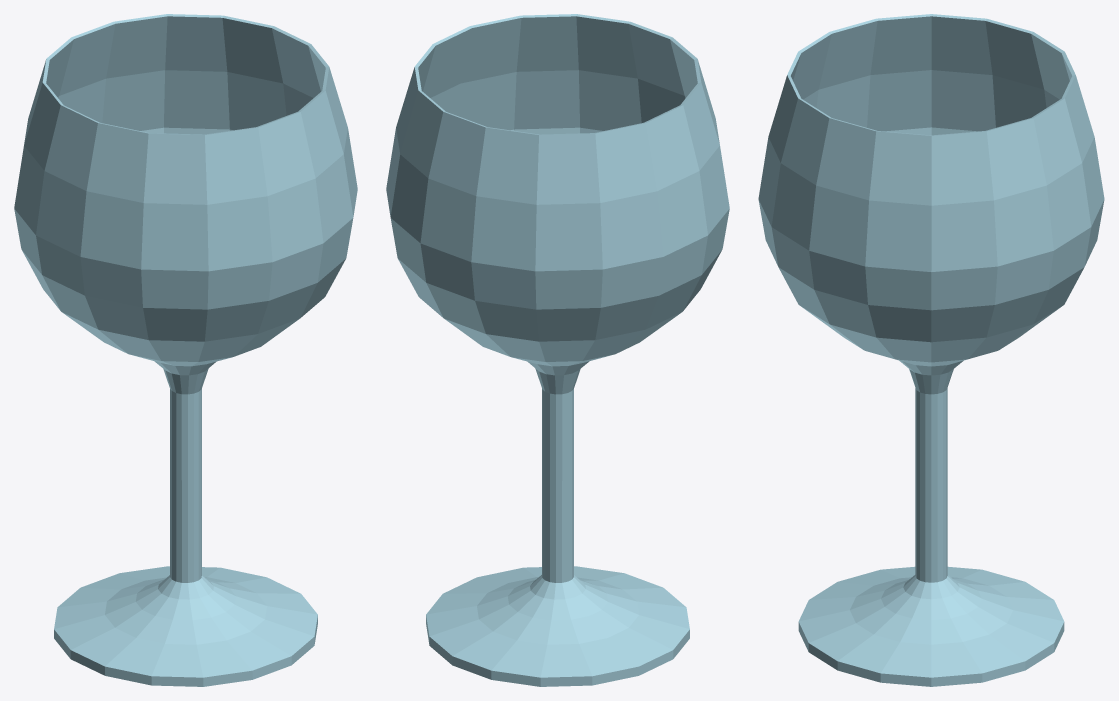
Rendered from Copa01.fbx.
The picture shows the model from 3 angles, left to right: view 1: azimuth 30°, elevation 25°; view 2: azimuth 150°, elevation 25°; view 3: azimuth 270°, elevation 25°; orthographic projection.
Visible parts, largest first — view 1: Copa01; view 2: Copa01; view 3: Copa01.
Boxes of the visible parts, x1,y1,x2,y2 form: Copa01: (14, 14, 357, 686); Copa01: (386, 14, 729, 686); Copa01: (758, 14, 1104, 686).
Size of the model in its own units: 9.5 by 16.83 by 9.5.
